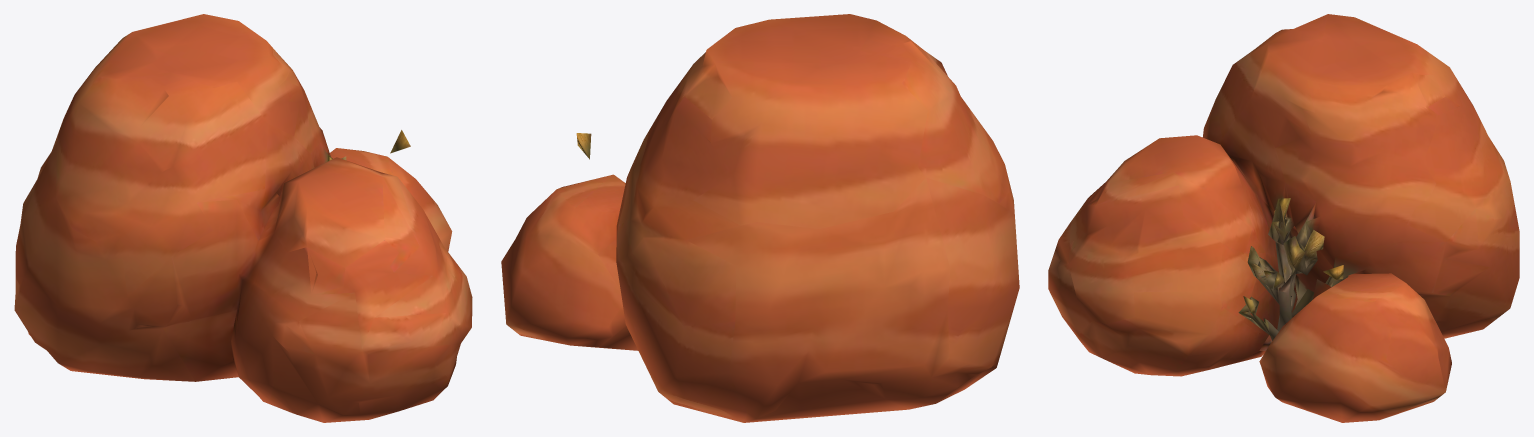
File: rock.glb
3 views of the same model, side by side, from view 1: azimuth 30°, elevation 25°; view 2: azimuth 150°, elevation 25°; view 3: azimuth 270°, elevation 25° (orthographic). The views are drawn at different scales.
Parts seen in each view (by area): view 1: tripo_node_cbf6f152-91e5-44dd-bdce-ad45e7117789; view 2: tripo_node_cbf6f152-91e5-44dd-bdce-ad45e7117789; view 3: tripo_node_cbf6f152-91e5-44dd-bdce-ad45e7117789.
Part boxes in pixels (bbox=[...]): tripo_node_cbf6f152-91e5-44dd-bdce-ad45e7117789: bbox=[14, 14, 472, 422]; tripo_node_cbf6f152-91e5-44dd-bdce-ad45e7117789: bbox=[501, 14, 1019, 422]; tripo_node_cbf6f152-91e5-44dd-bdce-ad45e7117789: bbox=[1048, 14, 1519, 422].
Size of the model in its own units: 0.9668 by 0.6132 by 1.
1 material, 1 textured.
